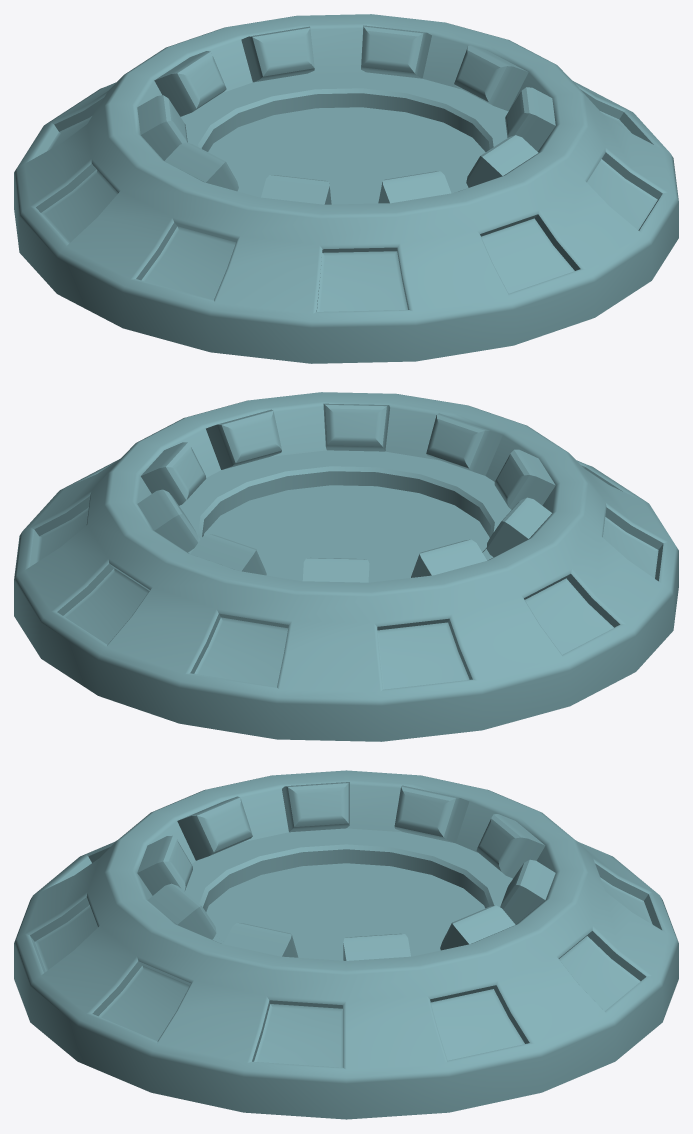
The model's file is table_teleport_base.fbx.
The picture shows the model from 3 angles, top to bottom: view 1: azimuth 30°, elevation 25°; view 2: azimuth 150°, elevation 25°; view 3: azimuth 270°, elevation 25°; orthographic projection.
Visible parts, largest first — view 1: table_teleport_base; view 2: table_teleport_base; view 3: table_teleport_base.
Part boxes in pixels (x1=…): table_teleport_base: x1=14, y1=14, x2=678, y2=363; table_teleport_base: x1=14, y1=392, x2=678, y2=741; table_teleport_base: x1=14, y1=770, x2=678, y2=1119.
Bounding box in the file's own units: 67.04 × 13.18 × 67.04.
